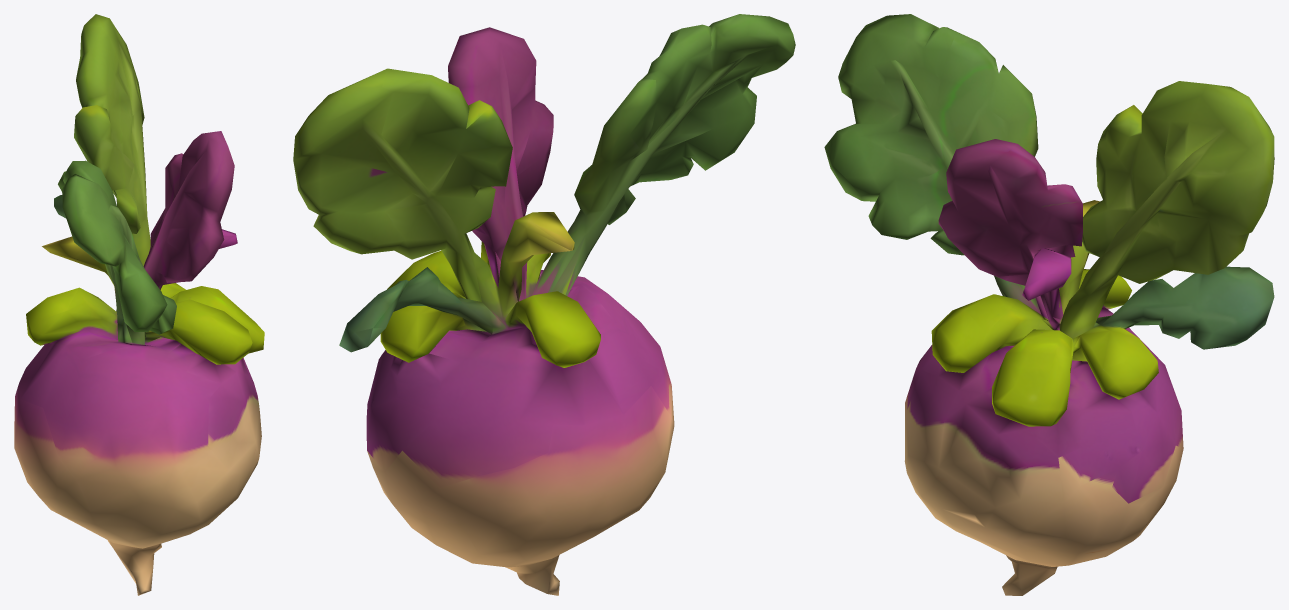
Rendered from salgam_lod1.glb.
The picture shows the model from 3 angles, left to right: view 1: azimuth 30°, elevation 25°; view 2: azimuth 150°, elevation 25°; view 3: azimuth 270°, elevation 25°; orthographic projection. The views are drawn at different scales.
Visible parts, largest first — view 1: salgam_lod1; view 2: salgam_lod1; view 3: salgam_lod1.
Boxes of the visible parts, x1,y1,x2,y2 form: salgam_lod1: [14, 14, 264, 595]; salgam_lod1: [293, 14, 795, 595]; salgam_lod1: [824, 14, 1274, 595].
Bounding box in the file's own units: 0.3333 × 0.6 × 0.454.
Materials: 1 (1 with a texture image).
